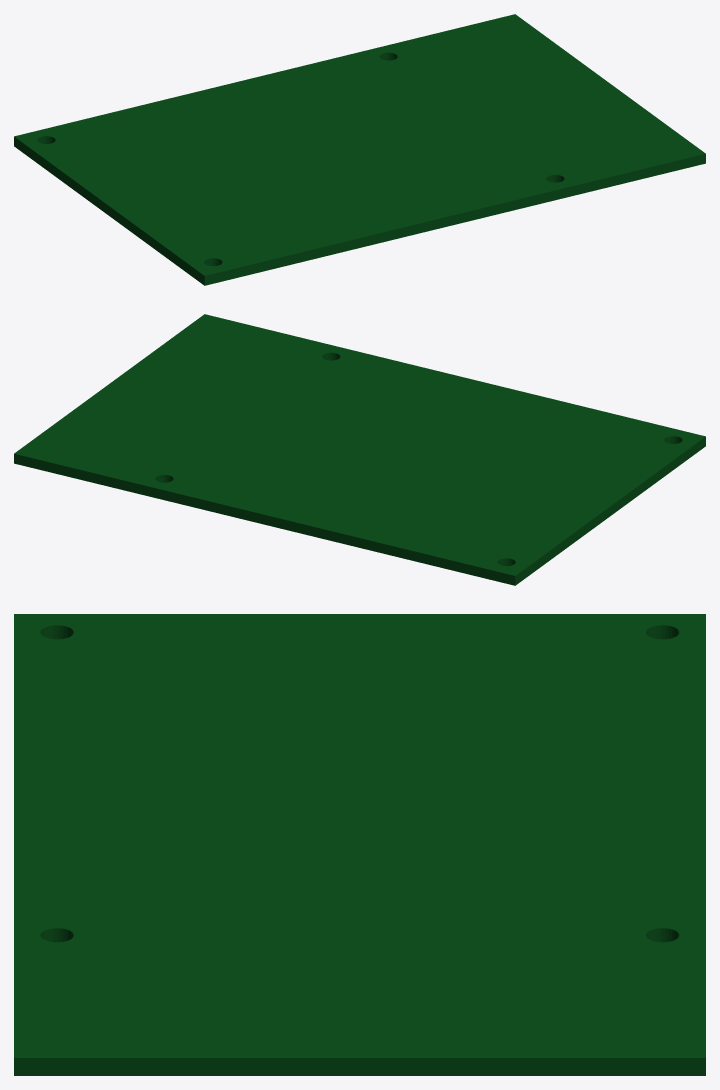
File: Pi6_CONCEPT_PCB_using_Pi5_dimensions.dae
3 renders of one model, top to bottom at view 1: azimuth 30°, elevation 25°; view 2: azimuth 150°, elevation 25°; view 3: azimuth 270°, elevation 25°, orthographic. The views are drawn at different scales.
Parts seen in each view (by area): view 1: Pi6_CONCEPT_PCB_using_Pi5_dimensions; view 2: Pi6_CONCEPT_PCB_using_Pi5_dimensions; view 3: Pi6_CONCEPT_PCB_using_Pi5_dimensions.
Boxes of the visible parts, bbox=[...] form: Pi6_CONCEPT_PCB_using_Pi5_dimensions: bbox=[14, 14, 705, 285]; Pi6_CONCEPT_PCB_using_Pi5_dimensions: bbox=[14, 314, 705, 585]; Pi6_CONCEPT_PCB_using_Pi5_dimensions: bbox=[14, 614, 705, 1075].
Bounding box in the file's own units: 0.085 × 0.056 × 0.0016.
